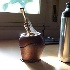guampa: (13, 7, 47, 64)
